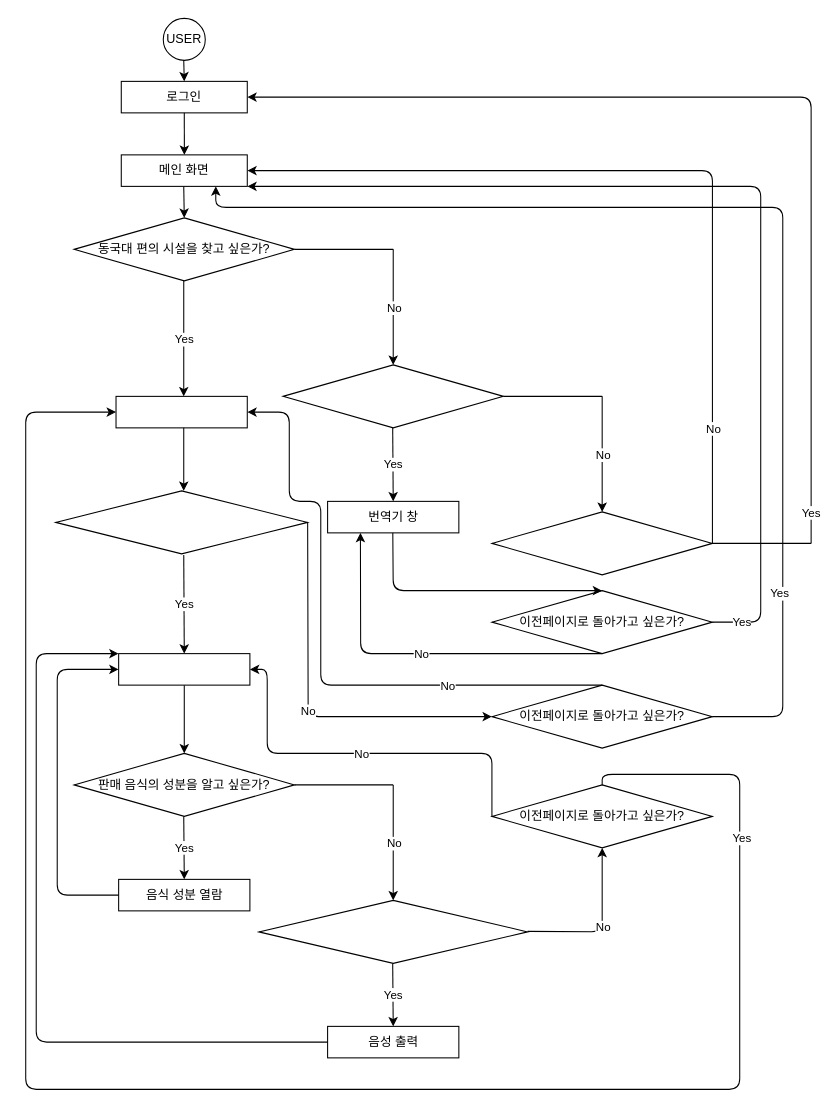
The diagram is 839 pixels wide and 1116 high, and some of its shapes have lost their labels. Each missing label, with the box of its shape:
검색한 편의 시설의 세부정보를 얻고 싶은가?: (55, 490, 308, 554)
로그아웃을 하고 싶은가?: (491, 511, 712, 575)
언어 번역기를 사용하고 싶은가?: (282, 364, 503, 428)
음식 구매 의사를 음성화 출력하고 싶은가?: (258, 899, 528, 963)
편의 시설 세부정보 창: (118, 653, 250, 685)
편의 시설 위치 검색 창: (115, 395, 247, 428)
